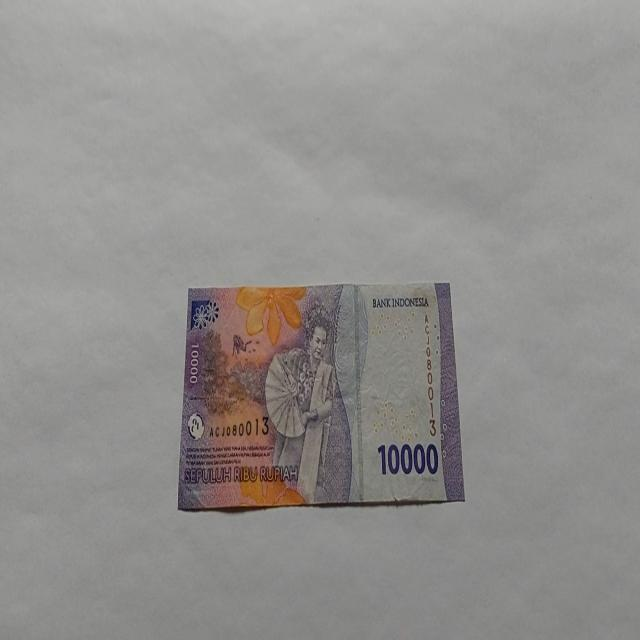sepuluh ribu rupiah: (176, 280, 464, 511)
